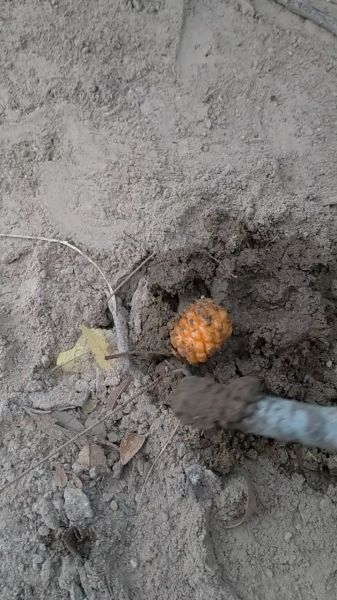eggs: (167, 297, 240, 361)
